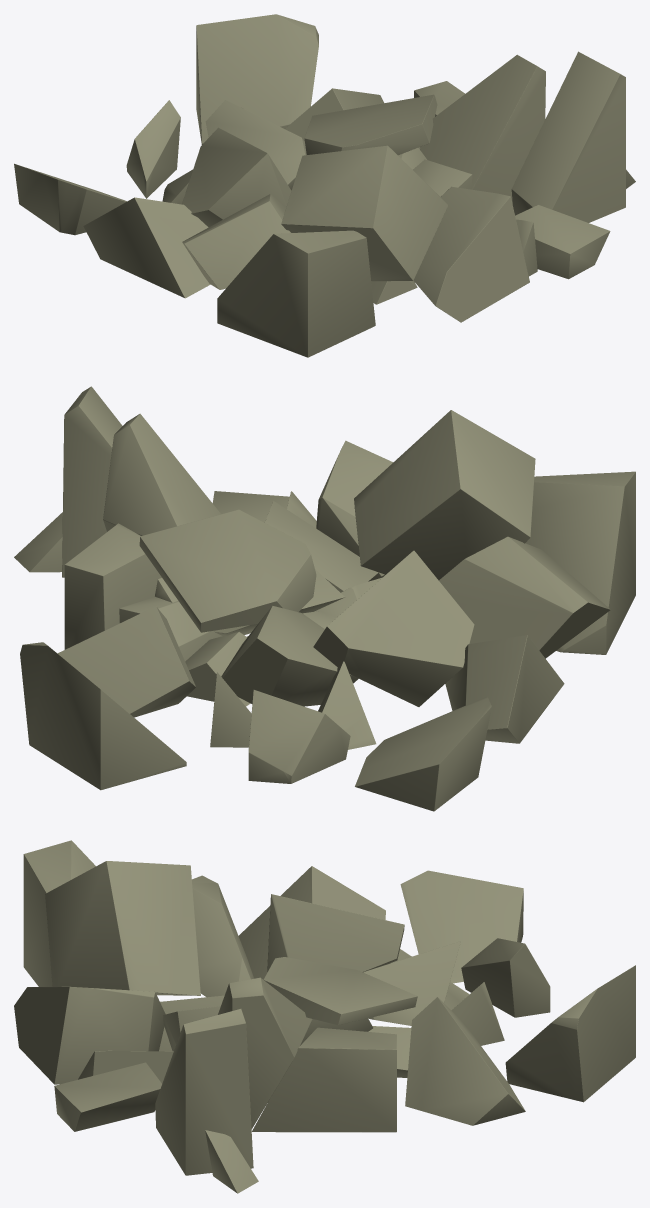
File: rocks_2.fbx
3 renders of one model, top to bottom at view 1: azimuth 30°, elevation 25°; view 2: azimuth 150°, elevation 25°; view 3: azimuth 270°, elevation 25°, orthographic. The views are drawn at different scales.
Parts seen in each view (by area): view 1: rocks_2; view 2: rocks_2; view 3: rocks_2.
Part boxes in pixels (box(x1,y1,x2,y2)): rocks_2: box(14, 14, 635, 357); rocks_2: box(14, 386, 635, 811); rocks_2: box(14, 840, 635, 1193).
Size of what is drawn, in the model's own units: 441 by 142 by 445.
